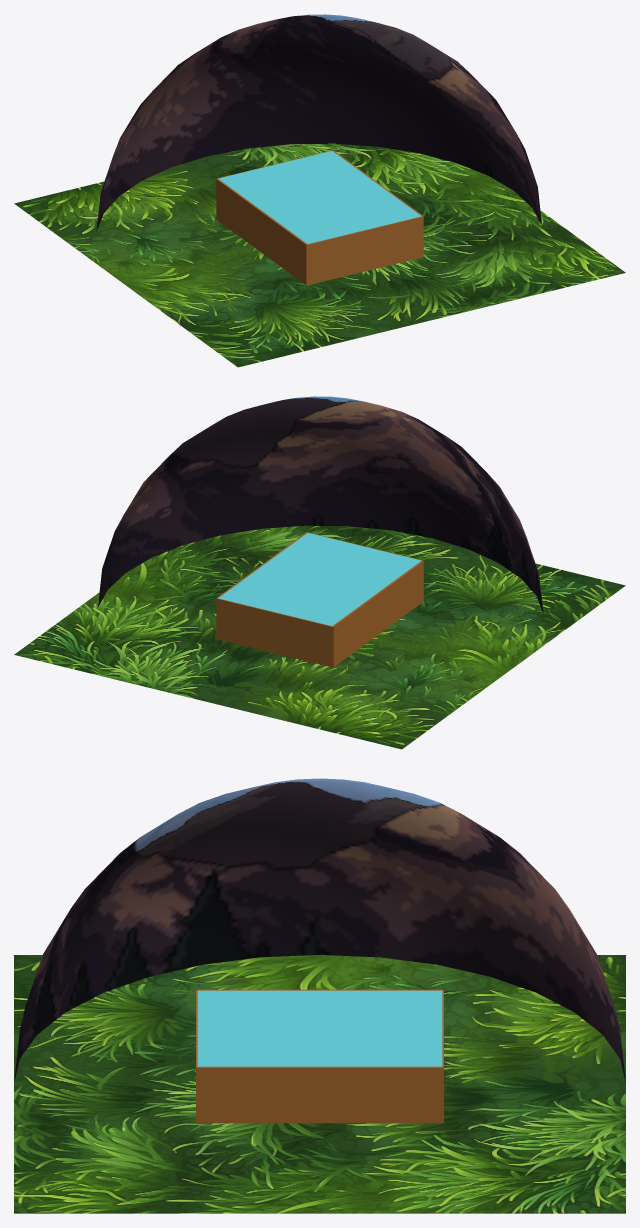
File: stage_tmp.gltf
3 views of the same model, one above another, from view 1: azimuth 30°, elevation 25°; view 2: azimuth 150°, elevation 25°; view 3: azimuth 270°, elevation 25° (orthographic). The views are drawn at different scales.
Visible parts, largest first — view 1: 球, 平面.001, 立方体, 立方体.002; view 2: 球, 平面.001, 立方体.001, 立方体.002; view 3: 球, 平面.001, 立方体.003.
Part boxes in pixels (box(x1,y1,x2,y2)): 球: box(14, 14, 625, 367); 平面.001: box(218, 151, 421, 243); 立方体: box(306, 216, 423, 285); 立方体.002: box(216, 179, 306, 285); 球: box(14, 396, 625, 749); 平面.001: box(218, 533, 421, 625); 立方体.001: box(216, 598, 333, 667); 立方体.002: box(333, 561, 423, 667); 球: box(14, 778, 625, 1213); 平面.001: box(197, 990, 442, 1066); 立方体.003: box(197, 1066, 442, 1123).
Size of the model in its own units: 400 by 200 by 400.
Materials: 5 (2 with a texture image).
